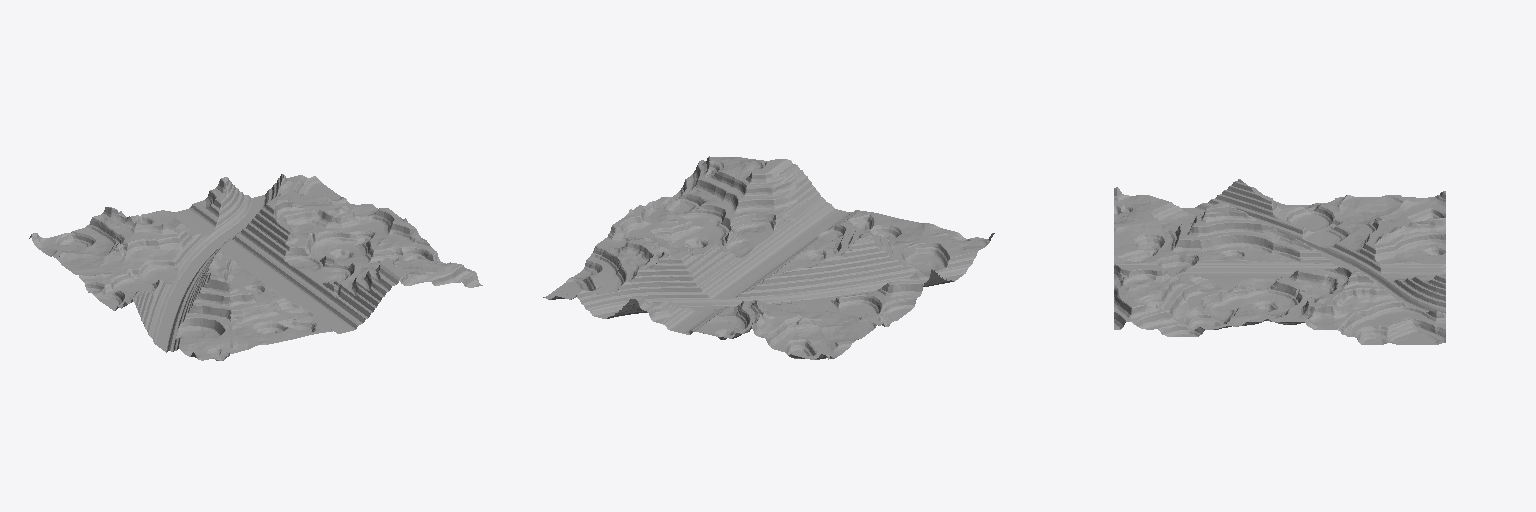
The picture shows the model from 3 angles: view 1: azimuth 30°, elevation 25°; view 2: azimuth 150°, elevation 25°; view 3: azimuth 270°, elevation 25°; orthographic projection.
Visible parts, largest first — view 1: O2_TerrainMesh.008; view 2: O2_TerrainMesh.008; view 3: O2_TerrainMesh.008.
Part boxes in pixels (x1,y1,x2,y2): O2_TerrainMesh.008: (29,174,482,360); O2_TerrainMesh.008: (543,156,994,359); O2_TerrainMesh.008: (1114,179,1445,344).
Bounding box in the file's own units: 1 × 0.1459 × 1.